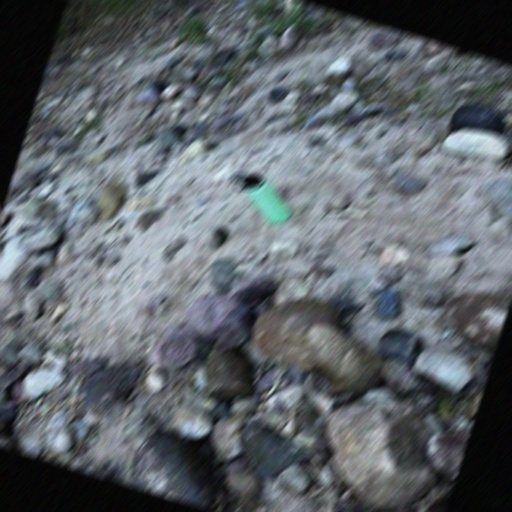bottle: (227, 169, 298, 227)
